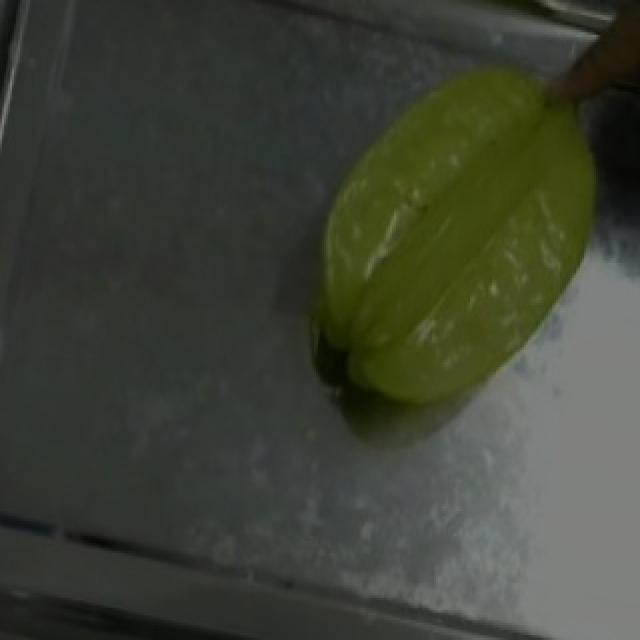fruit: (284, 35, 636, 409)
